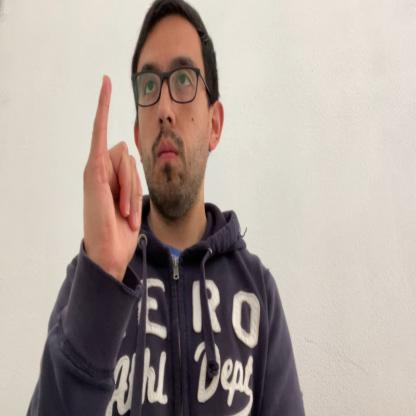I: (81, 74, 142, 278)
